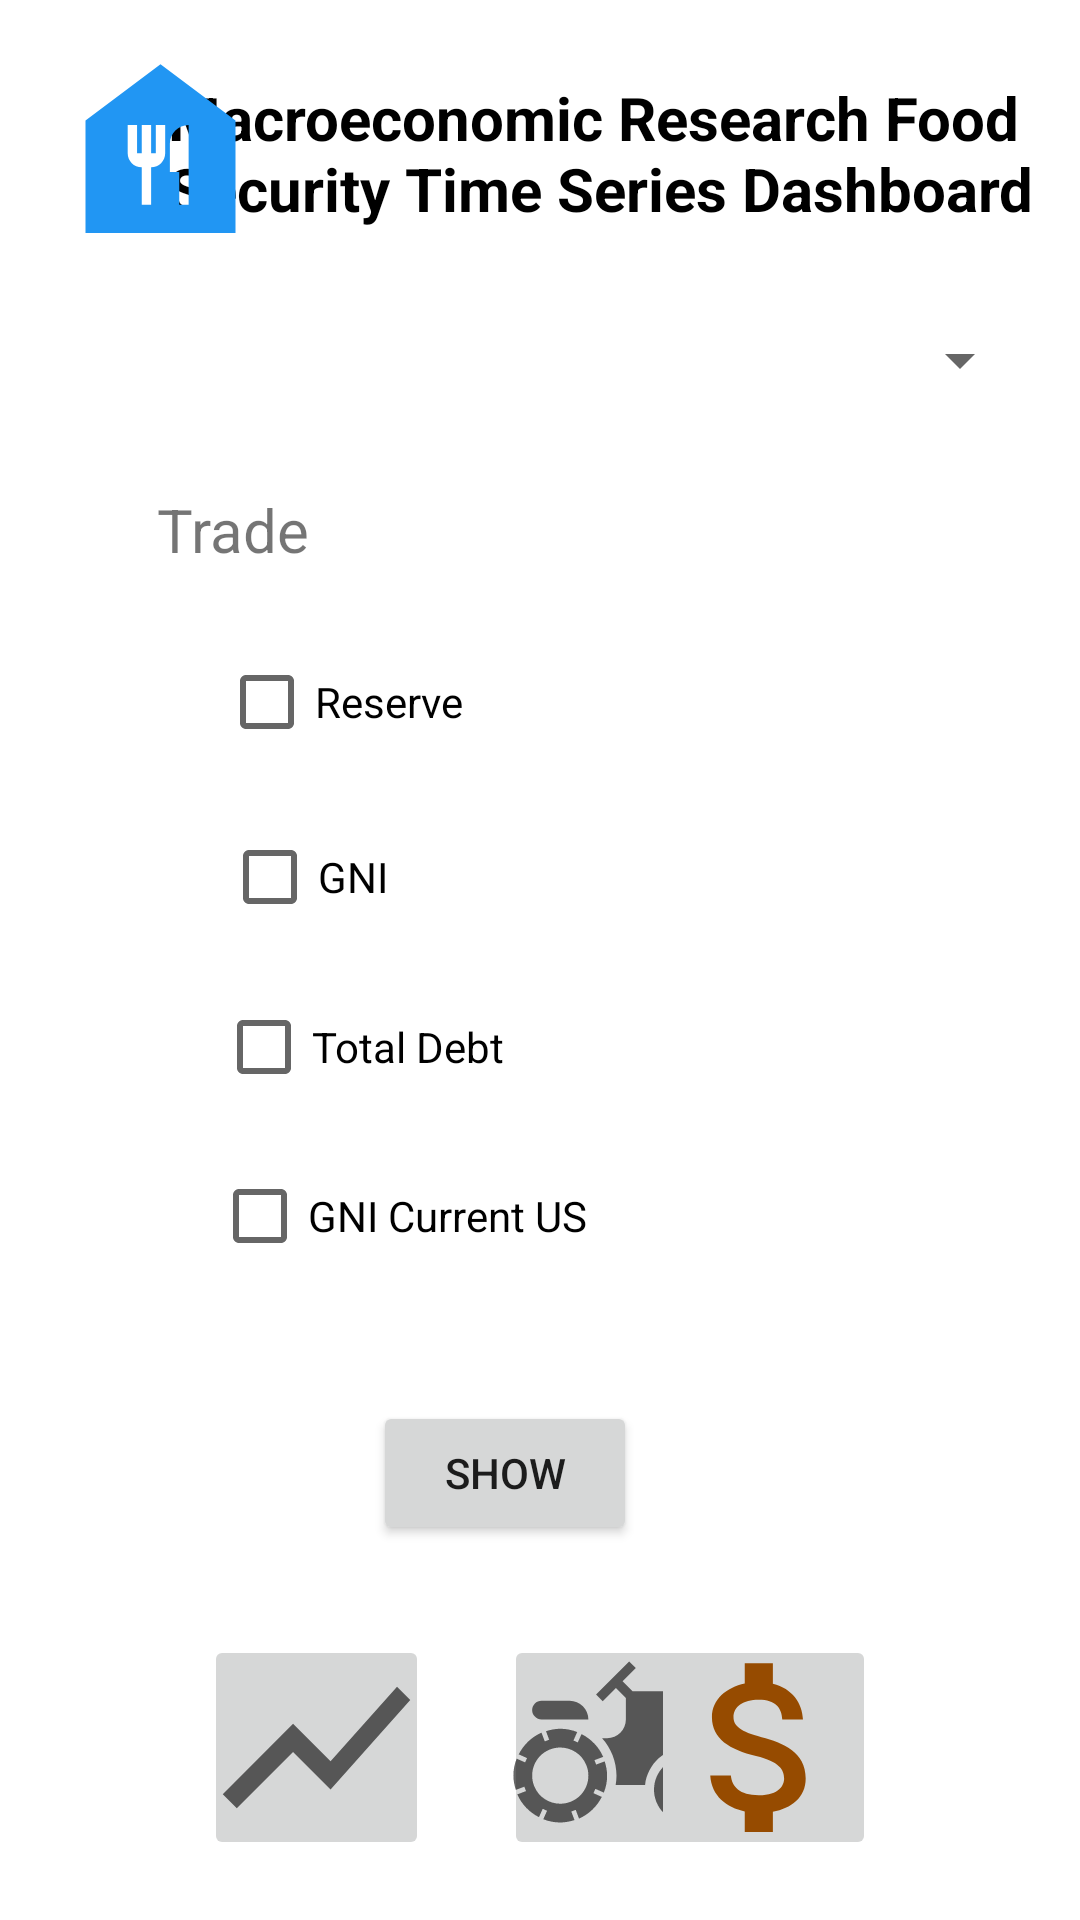

Where to tap for icons on this 1080 x 1920 app screen, as point (x, y):
attach money select: point (757, 1747)
